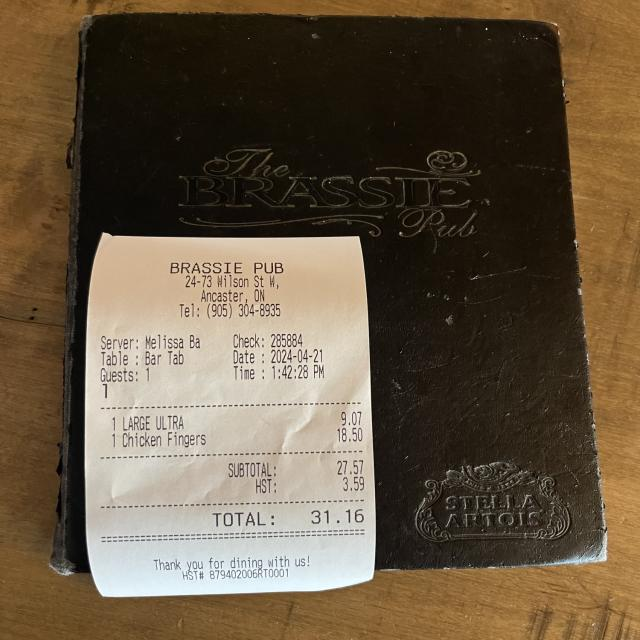item: (118, 426, 369, 451), (118, 408, 368, 433)
store_name: (158, 259, 292, 279)
total_amount: (200, 502, 370, 532)
transaction_date: (265, 347, 332, 366)
